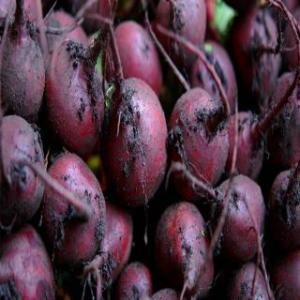beet: (106, 76, 166, 202), (48, 154, 110, 262), (48, 41, 104, 151), (174, 86, 230, 194), (0, 114, 46, 232), (158, 203, 215, 297), (0, 18, 44, 118), (107, 25, 165, 93), (218, 180, 266, 248), (159, 0, 207, 60), (119, 264, 153, 300)
